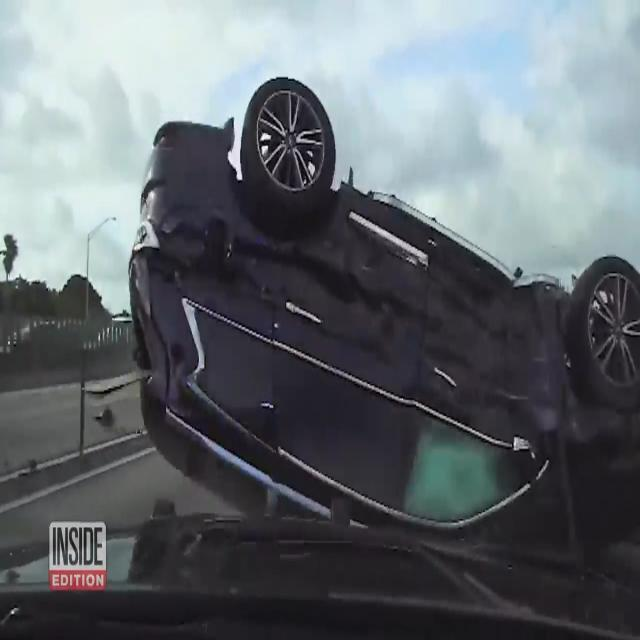accident: (121, 75, 640, 521)
